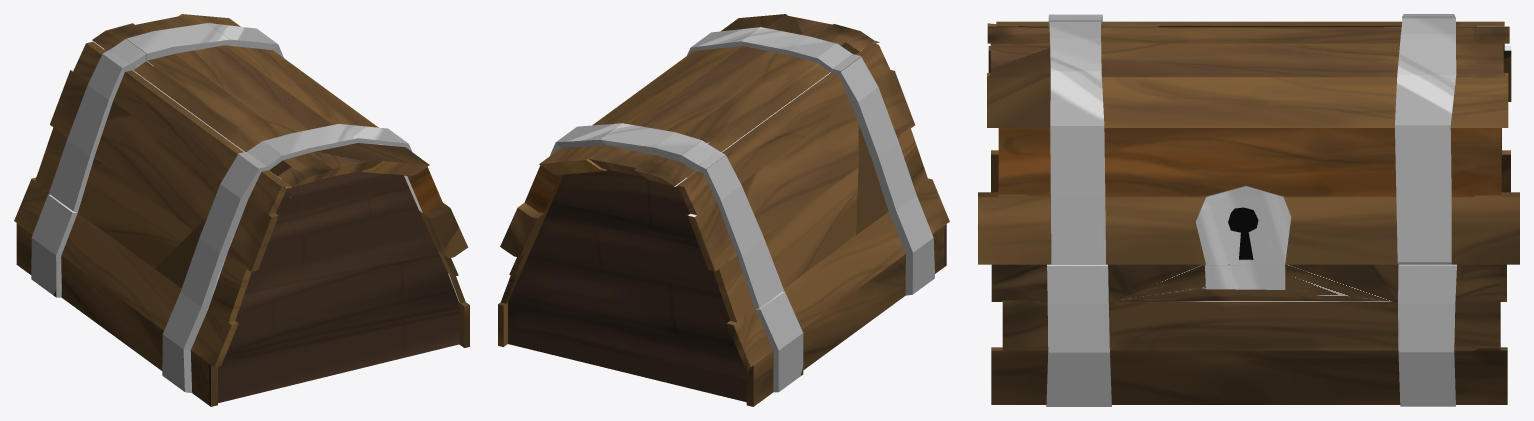
File: chest.fbx
3 renders of one model, left to right at view 1: azimuth 30°, elevation 25°; view 2: azimuth 150°, elevation 25°; view 3: azimuth 270°, elevation 25°, orthographic. The views are drawn at different scales.
Parts seen in each view (by area): view 1: Cube; view 2: Cube; view 3: Cube.
Part boxes in pixels (left/top/right/bottom): Cube: left=14, top=14, right=469, bottom=406; Cube: left=498, top=14, right=949, bottom=406; Cube: left=978, top=14, right=1519, bottom=406.
Bounding box in the file's own units: 224 × 172 × 297.
